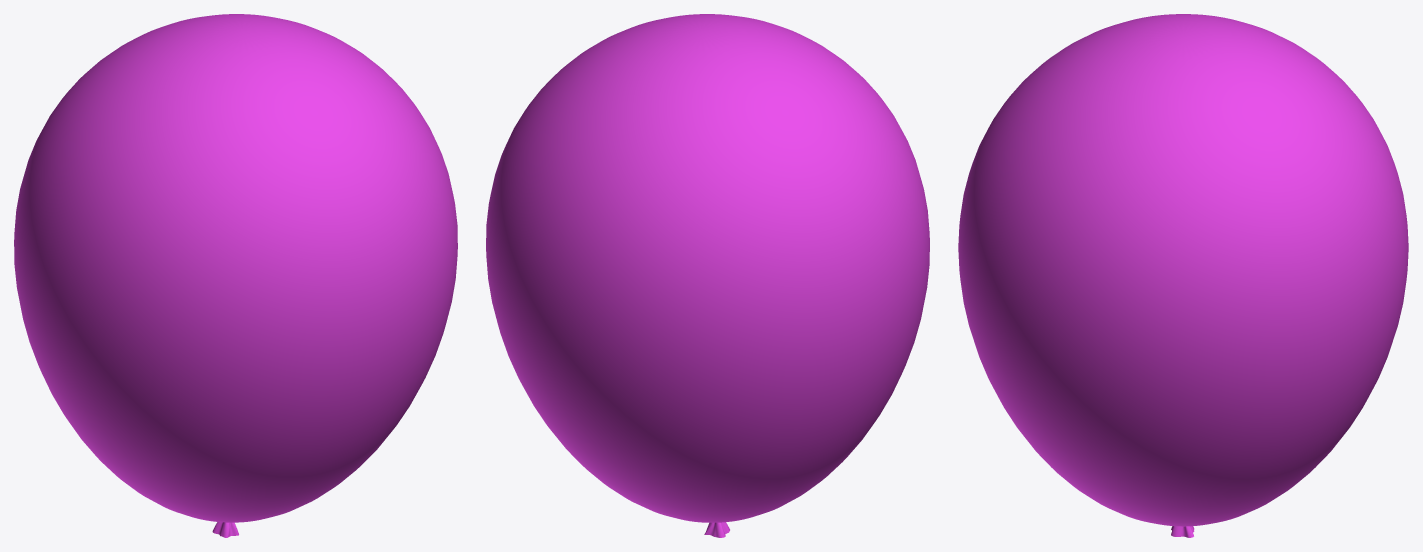
The model's file is balloonpurple.fbx.
The picture shows the model from 3 angles, left to right: view 1: azimuth 30°, elevation 25°; view 2: azimuth 150°, elevation 25°; view 3: azimuth 270°, elevation 25°; orthographic projection.
Visible parts, largest first — view 1: Sphere.004; view 2: Sphere.004; view 3: Sphere.004.
Boxes of the visible parts, left/top/right/bottom form: Sphere.004: left=14, top=14, right=457, bottom=537; Sphere.004: left=486, top=14, right=929, bottom=537; Sphere.004: left=958, top=14, right=1408, bottom=537.
Bounding box in the file's own units: 191 × 236 × 191.
